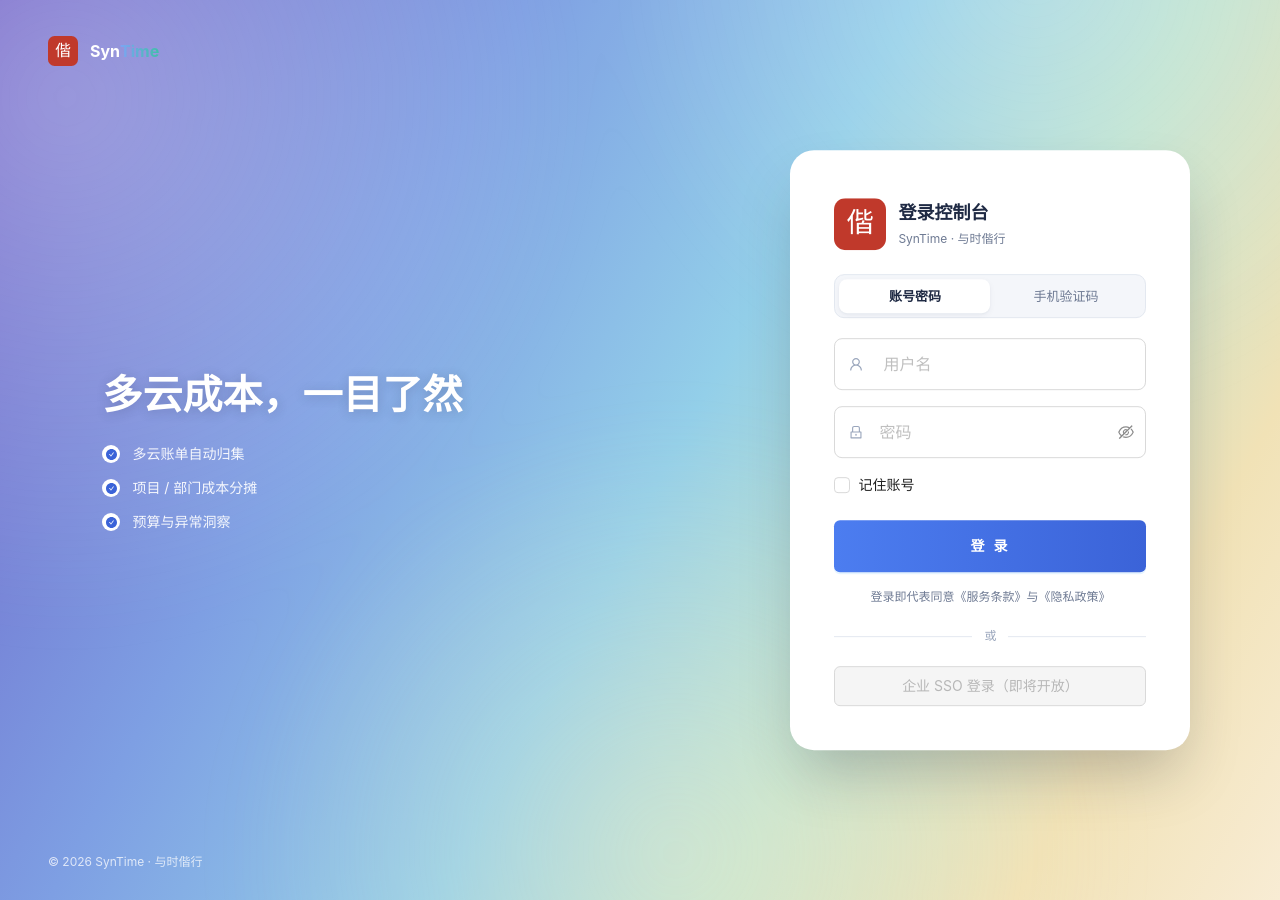
Test: 40100 停留登录页并提示账号或密码错误
This screenshot has width=1280, height=900.
Step 1. Type "demo" into the field labelled "用户名" → (1009, 364), box [883,346,1134,382]
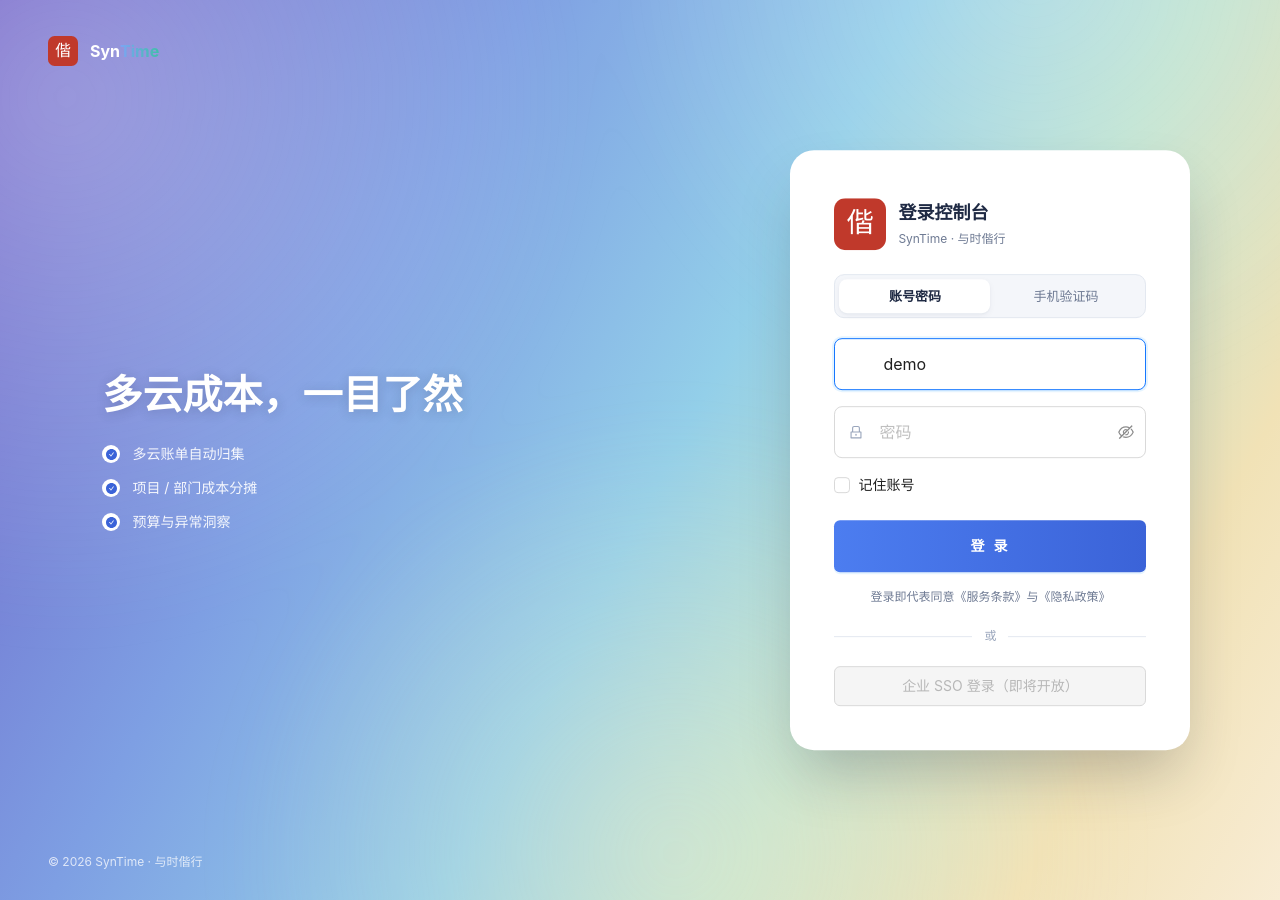
Step 2. Type "wrong-pass" into the password field labelled "密码" → (997, 432), box [879,414,1114,450]
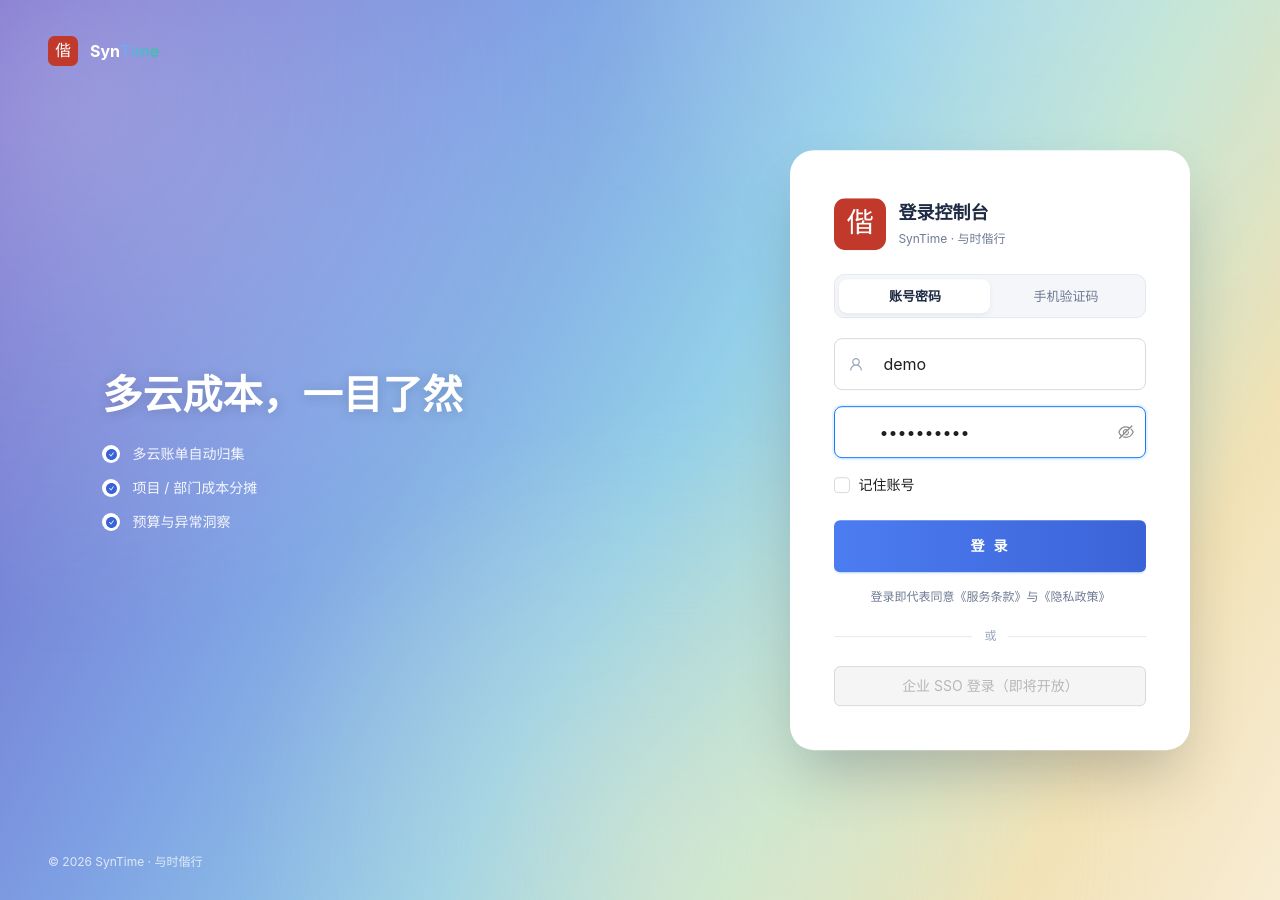
Step 3. Click the button "登 录" → click(990, 546), box [834,520,1146,572]
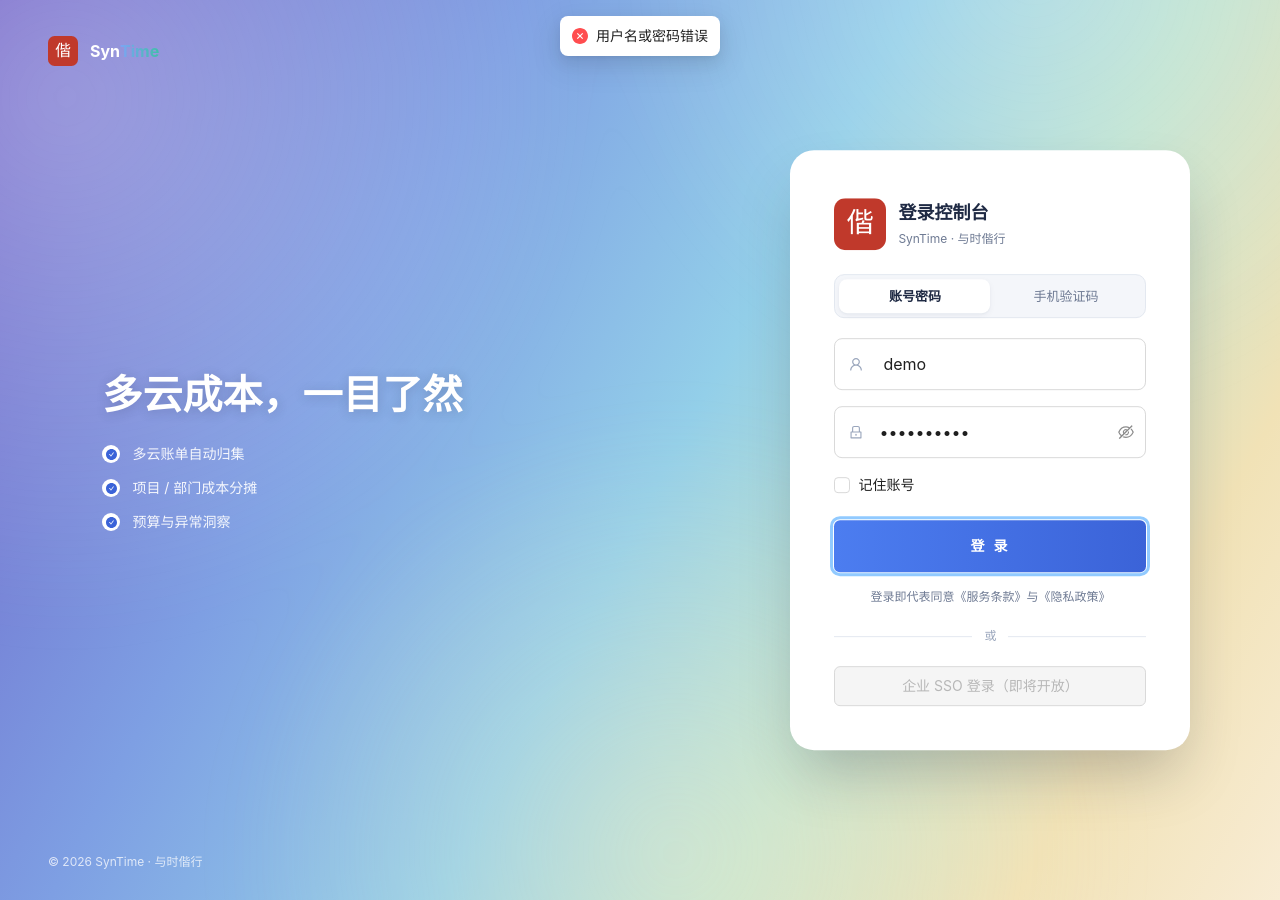
Expected: the text "用户名或密码错误" is shown, [596,25,708,47]
